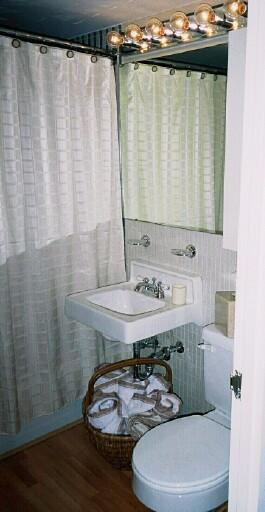Ducha: (2, 47, 133, 412)
Lavamanos: (74, 255, 209, 345)
Sanitario: (144, 319, 228, 510)
